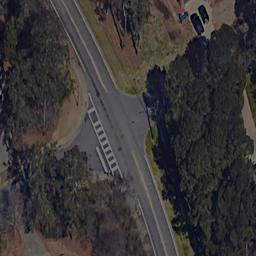Car: (186, 3, 216, 35)
Crosswalk: (83, 90, 122, 180)
Double Solid Yellow Line: (129, 145, 169, 255), (61, 1, 108, 93)
Stop Line: (97, 146, 109, 175)
